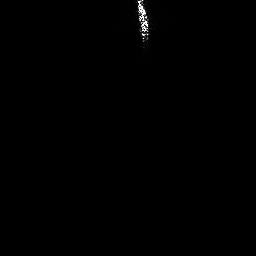ship: (136, 1, 148, 46)
